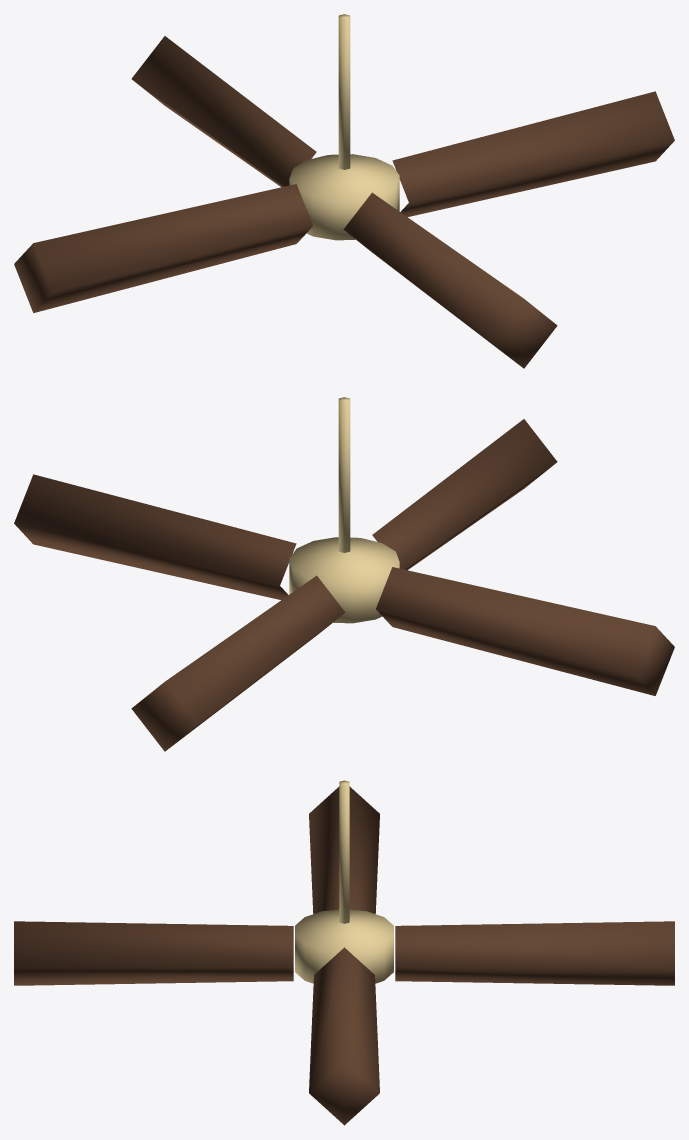
File: ceiling_fan.glb
The picture shows the model from 3 angles, top to bottom: view 1: azimuth 30°, elevation 25°; view 2: azimuth 150°, elevation 25°; view 3: azimuth 270°, elevation 25°; orthographic projection. The views are drawn at different scales.
Parts seen in each view (by area): view 1: ceiling_fan; view 2: ceiling_fan; view 3: ceiling_fan.
Part boxes in pixels (x1,y1,x2,y2): ceiling_fan: [14, 14, 674, 368]; ceiling_fan: [14, 397, 674, 751]; ceiling_fan: [14, 780, 674, 1125].
Size of the model in its own units: 1.3 by 0.44 by 1.3.
